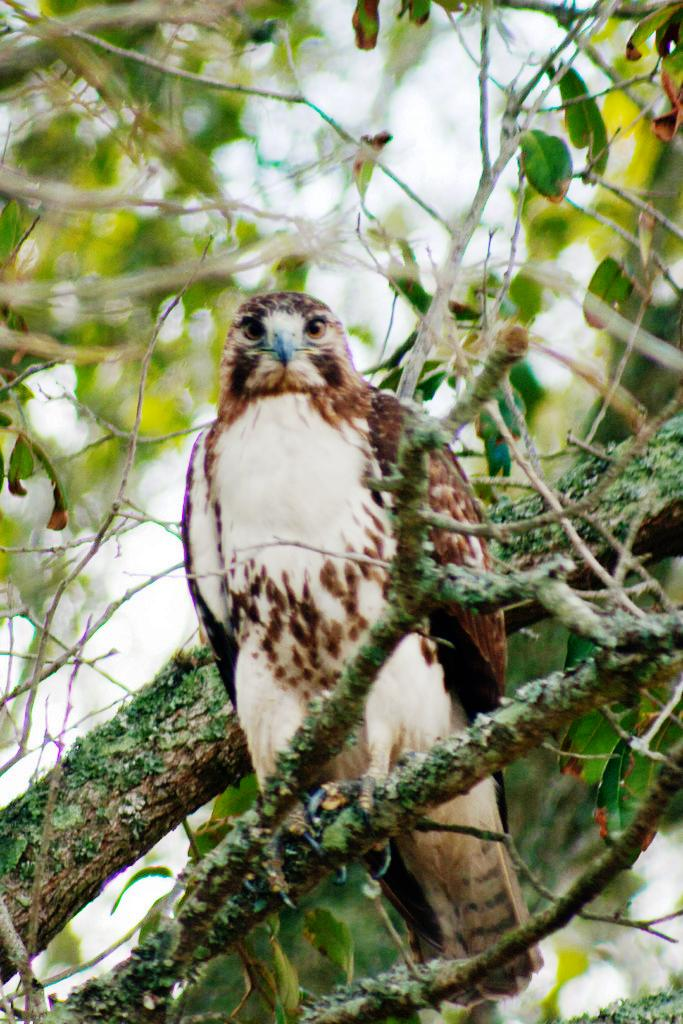Owl: (180, 290, 554, 1016)
